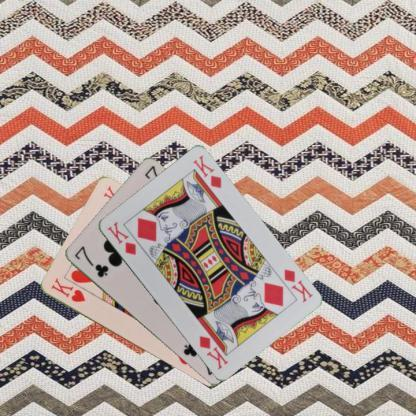7c: (72, 243, 110, 279)
Kd: (280, 266, 314, 304), (105, 218, 138, 256)
Kh: (48, 275, 87, 304)
